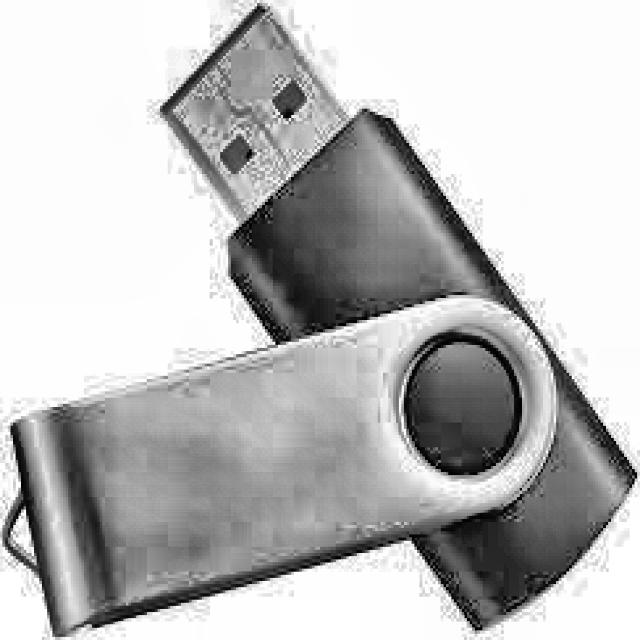Mug: (155, 0, 640, 639), (0, 289, 563, 640)
